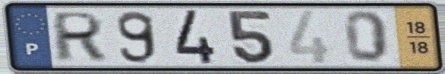0: (342, 9, 392, 67)
4: (286, 8, 334, 66), (173, 8, 219, 66)
5: (224, 8, 277, 66)
9: (115, 9, 158, 65)
R: (52, 10, 107, 64)
